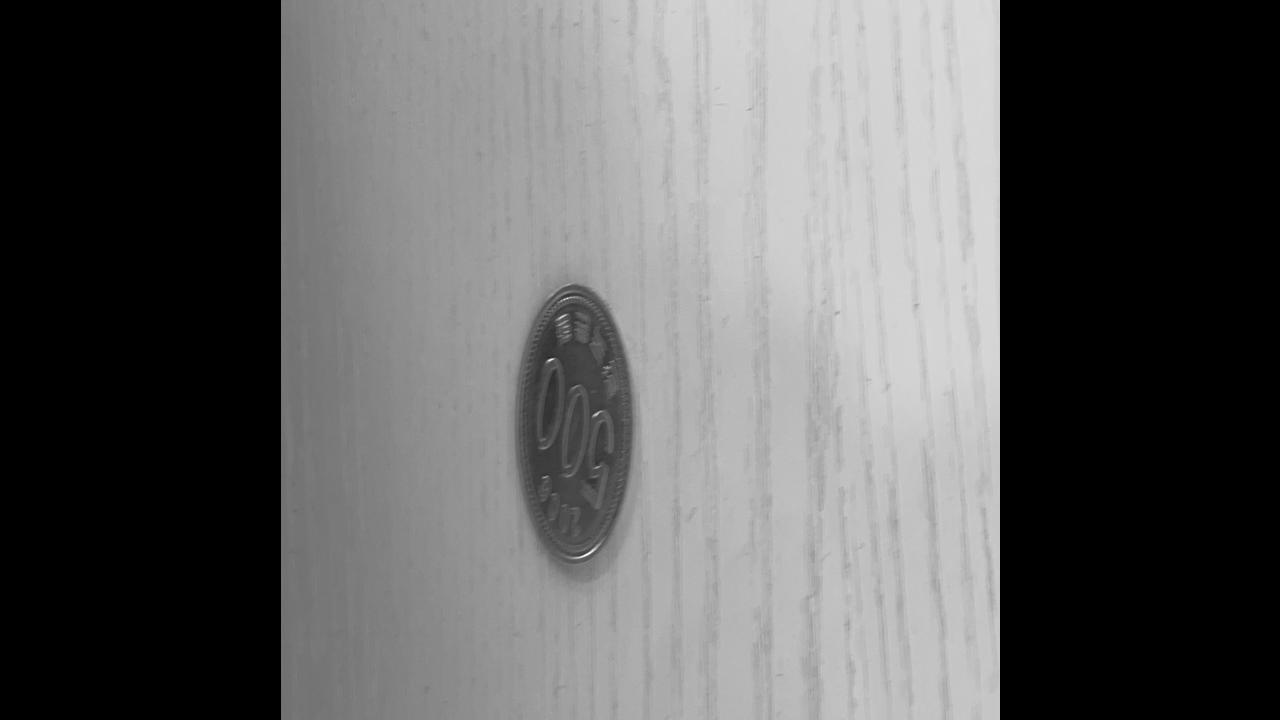coin: (516, 280, 634, 576)
